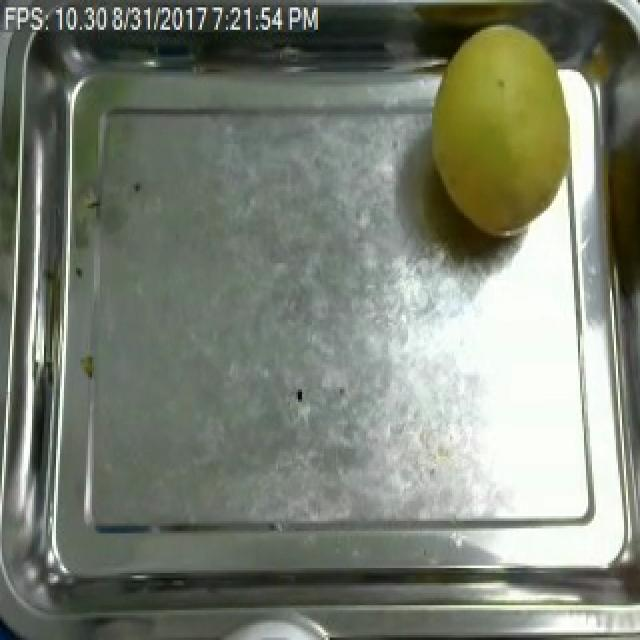fruit: (420, 18, 586, 250)
